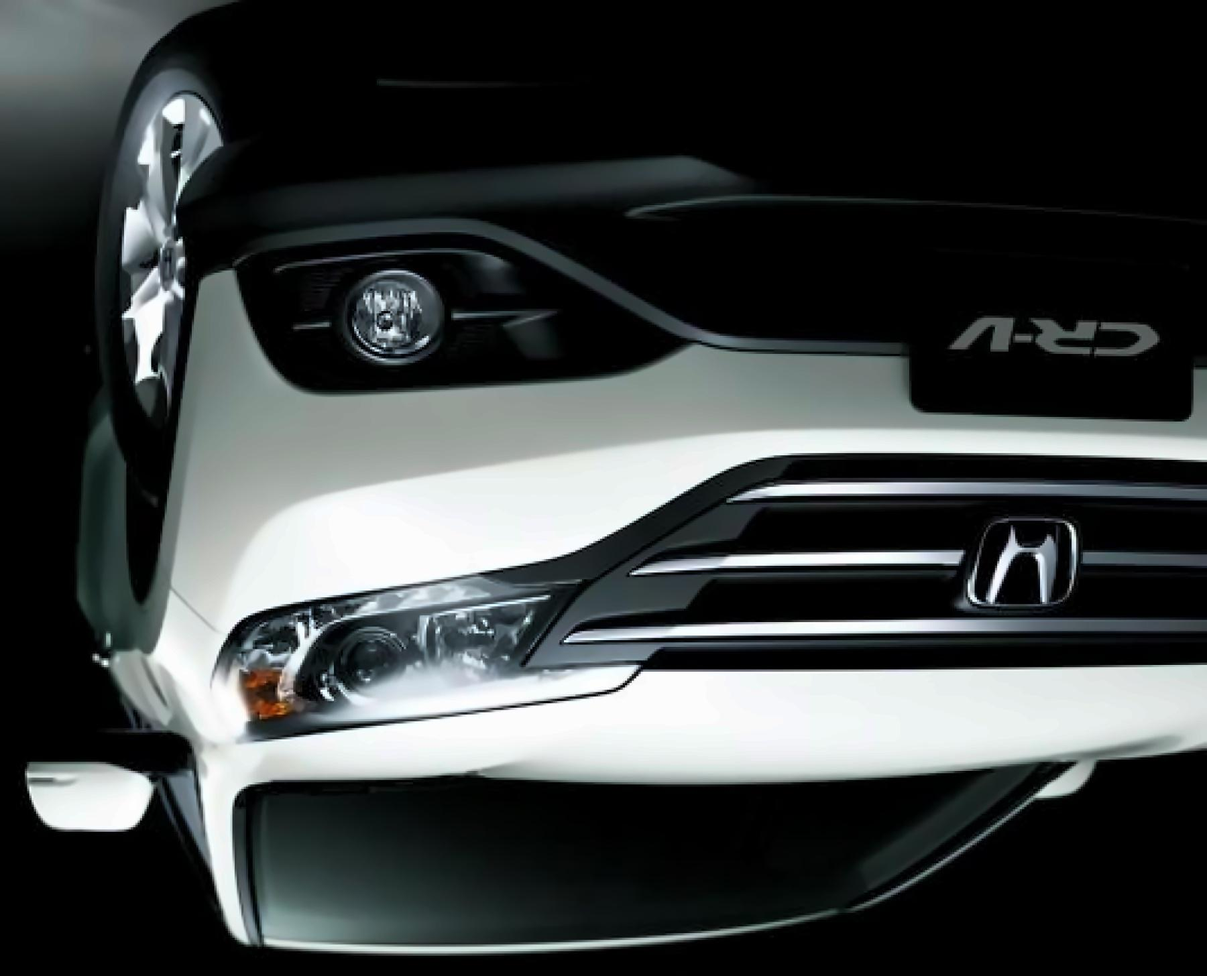Car hood: (163, 635, 1207, 814)
Front bumper: (154, 99, 1207, 645)
Headlight - -L-: (204, 548, 669, 745)
Side mirror - -L-: (22, 726, 196, 836)
